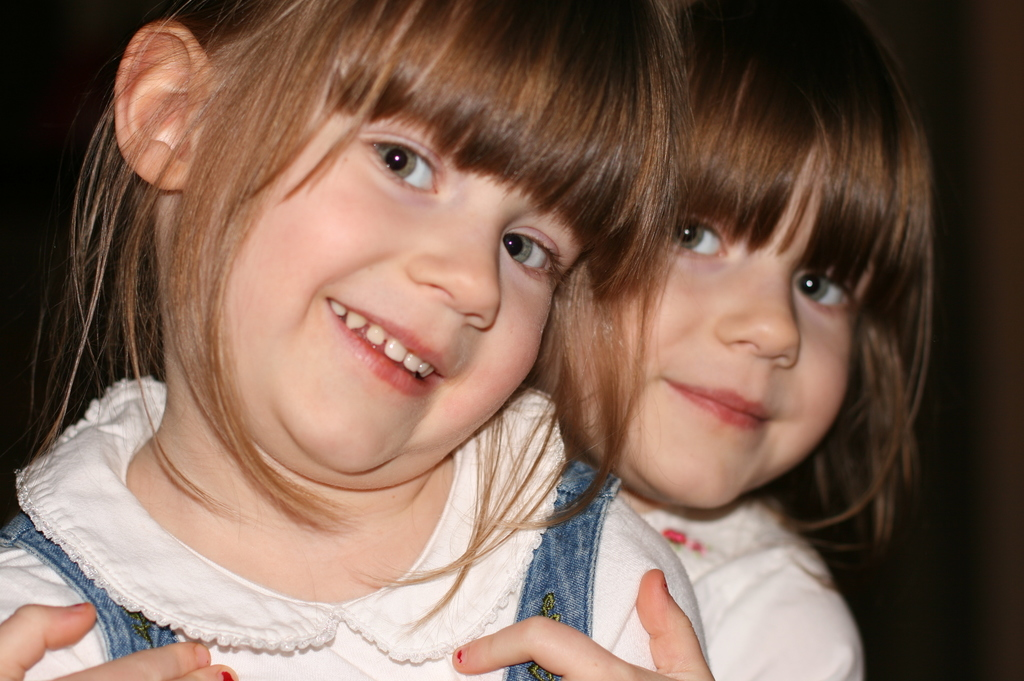Person: (539, 0, 933, 680)
